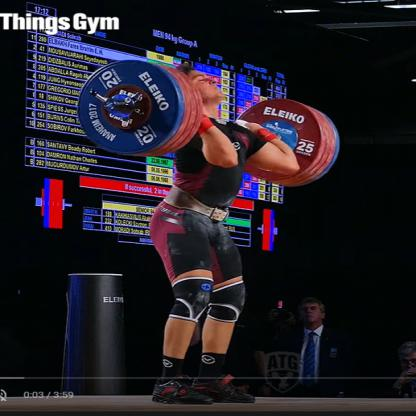Barbell: (72, 57, 198, 165)
